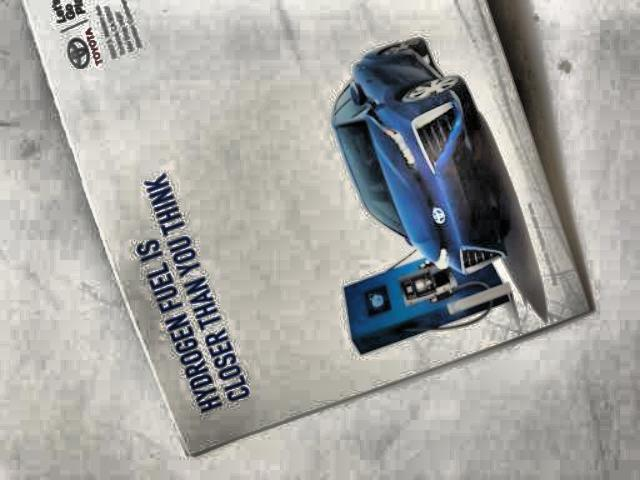Paper: (13, 0, 599, 459)
